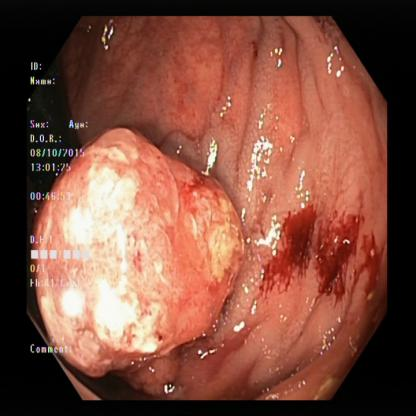Labels: (27, 53, 97, 362)
Polyps: (29, 128, 241, 374)
